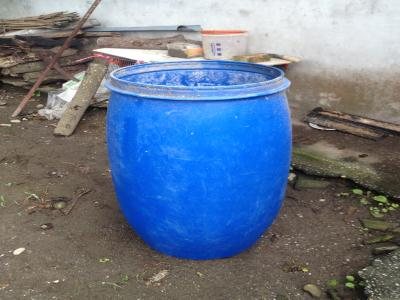bowl: (196, 28, 252, 63)
bucket: (100, 56, 295, 265)
